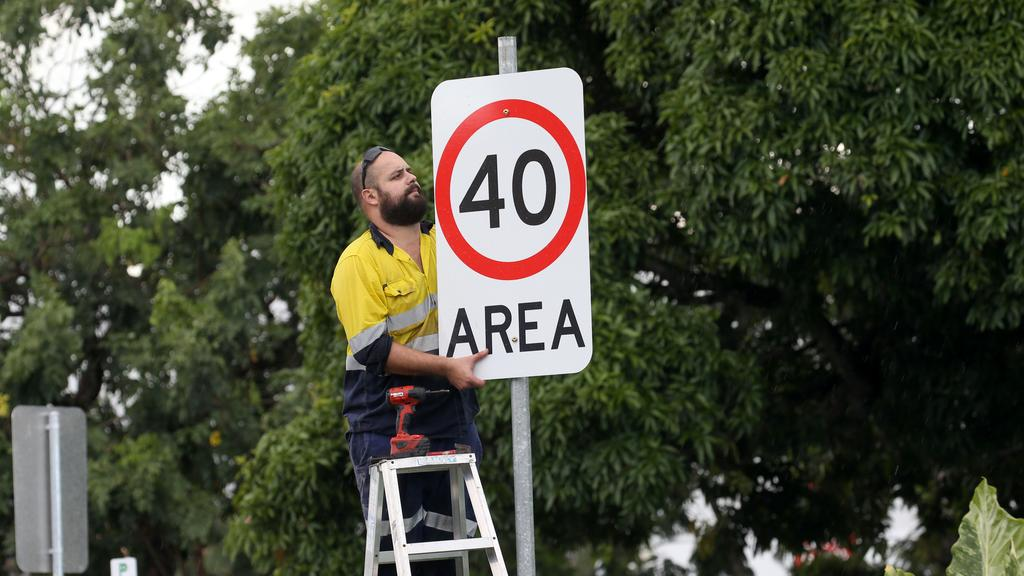40 Km/hr: (435, 100, 584, 283)
